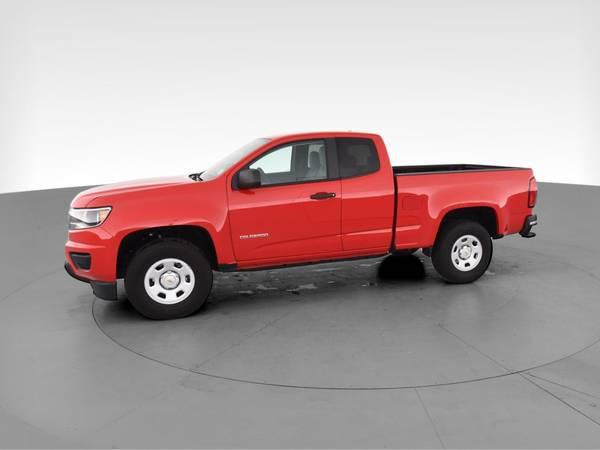Front_Bumper: (62, 228, 120, 301)
Front_Fender: (86, 177, 236, 271)
Front_Left_Door: (226, 179, 341, 270)
Front_Left_Window: (222, 133, 338, 190)
Front_Windshield: (199, 139, 272, 181)
Hood: (71, 175, 201, 209)
Left_Headlight: (66, 205, 111, 231)
Left_Taillight: (527, 178, 537, 209)
Rear_Fender: (393, 168, 534, 248)
Rear_Left_Door: (340, 167, 394, 258)
Rear_Left_Window: (334, 133, 389, 179)
Wheel: (124, 238, 215, 318), (433, 218, 495, 283)
